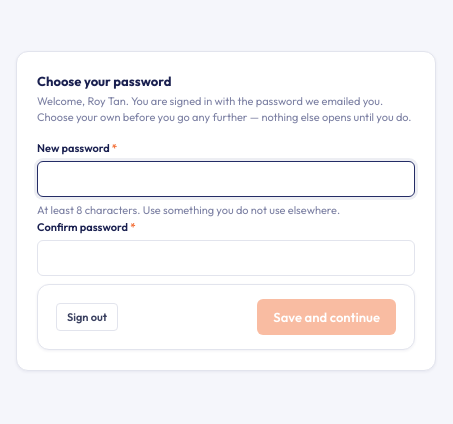
Scenario: SetPasswordPage › shows the API refusal rather than swallowing it
The width and height of the screenshot is (453, 424).
In the password field labelled "New password *": (226, 179) [37,161,415,197], type "a-decent-password"
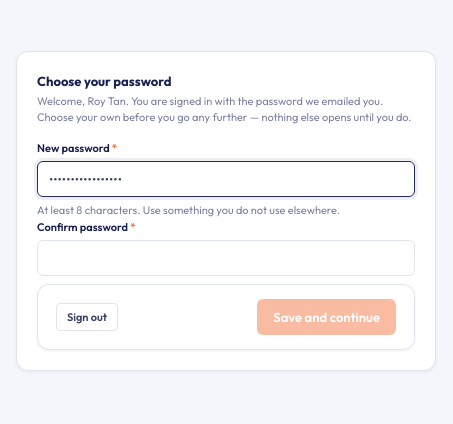
In the password field labelled "Confirm password *": (226, 258) [37,240,415,276], type "a-decent-password"
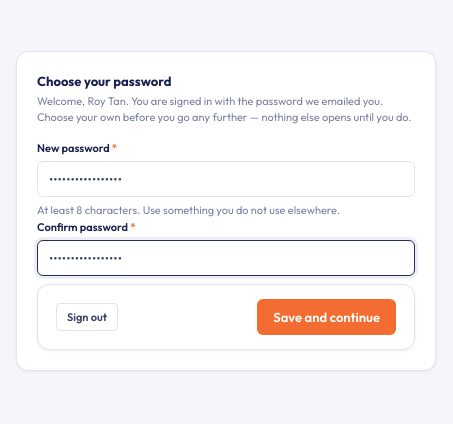
Click the button "Save and continue": (327, 317) [257,299,396,335]
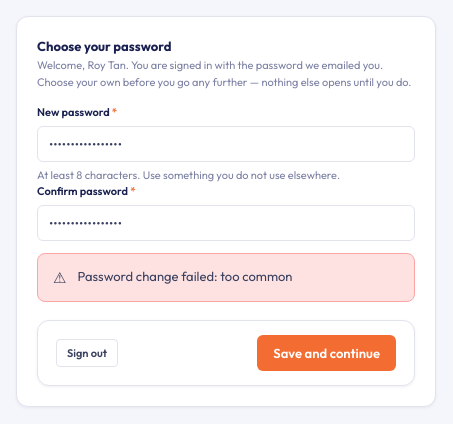
Expected: the password field labelled "New password *" is enabled, [37,126,415,162]
Expected: the text "Password change failed: too common" is shown, [78,266,292,286]
